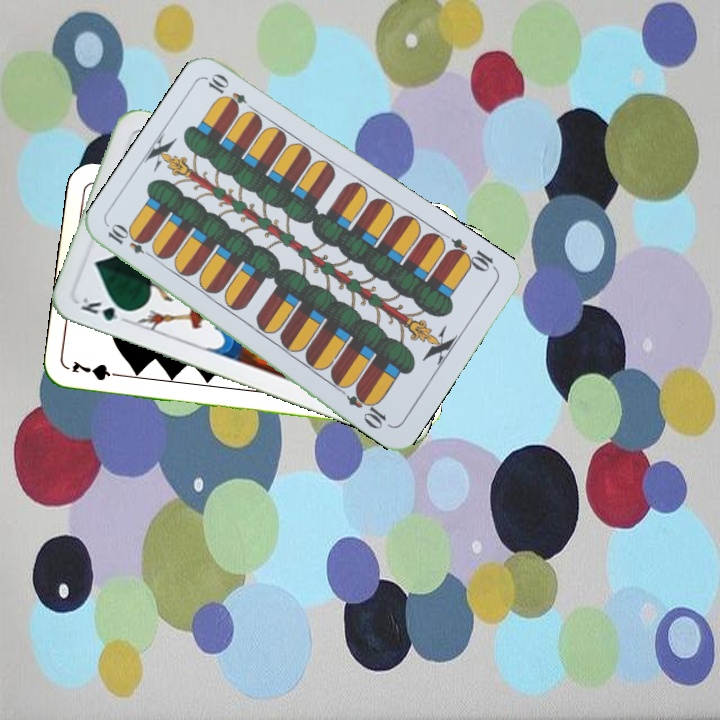E10: (443, 234, 500, 275), (103, 221, 159, 262)
G7: (68, 357, 127, 383)
GK: (76, 293, 134, 326)
